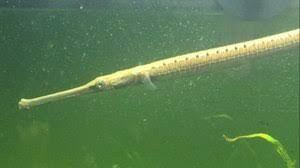Long-Snouted Pipefish: (17, 30, 300, 125)
